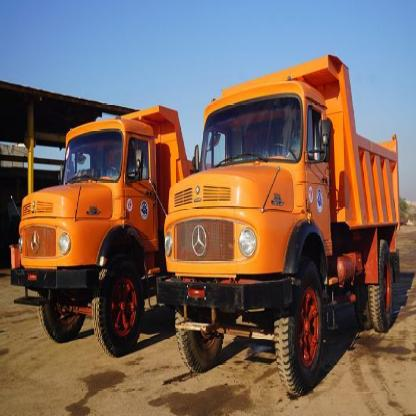Truck: (166, 57, 400, 378), (10, 105, 170, 343)
